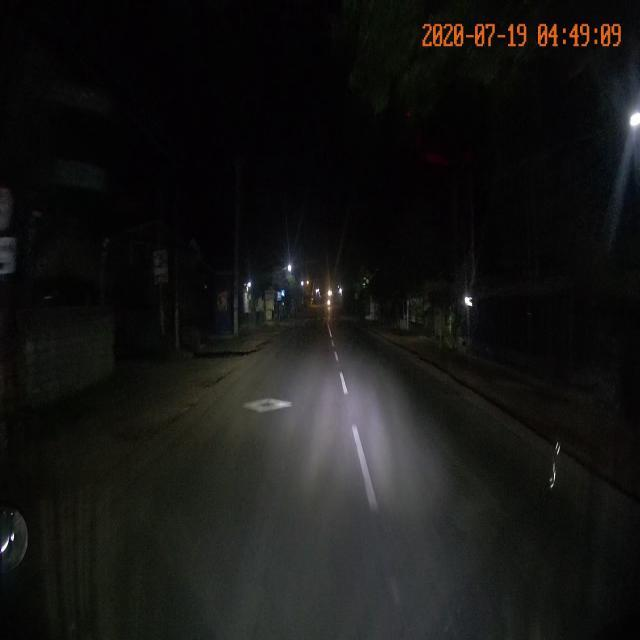diamond: (179, 391, 358, 431)
